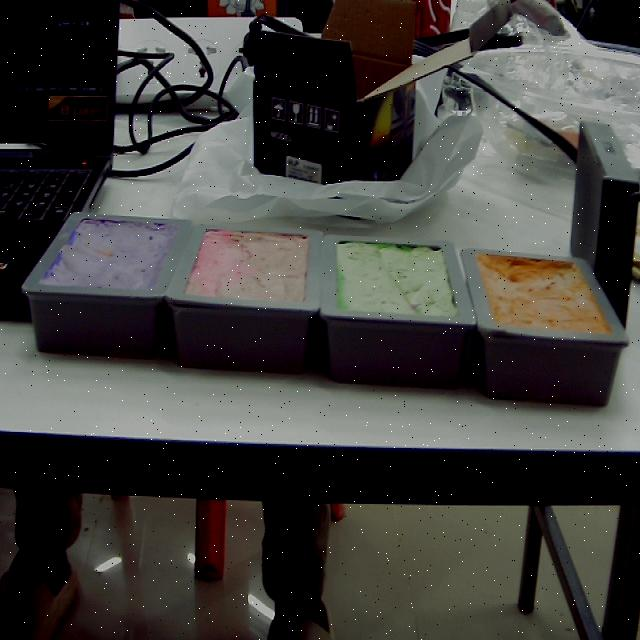block: (460, 250, 630, 405), (21, 213, 194, 359), (317, 235, 475, 389), (161, 223, 322, 374)
